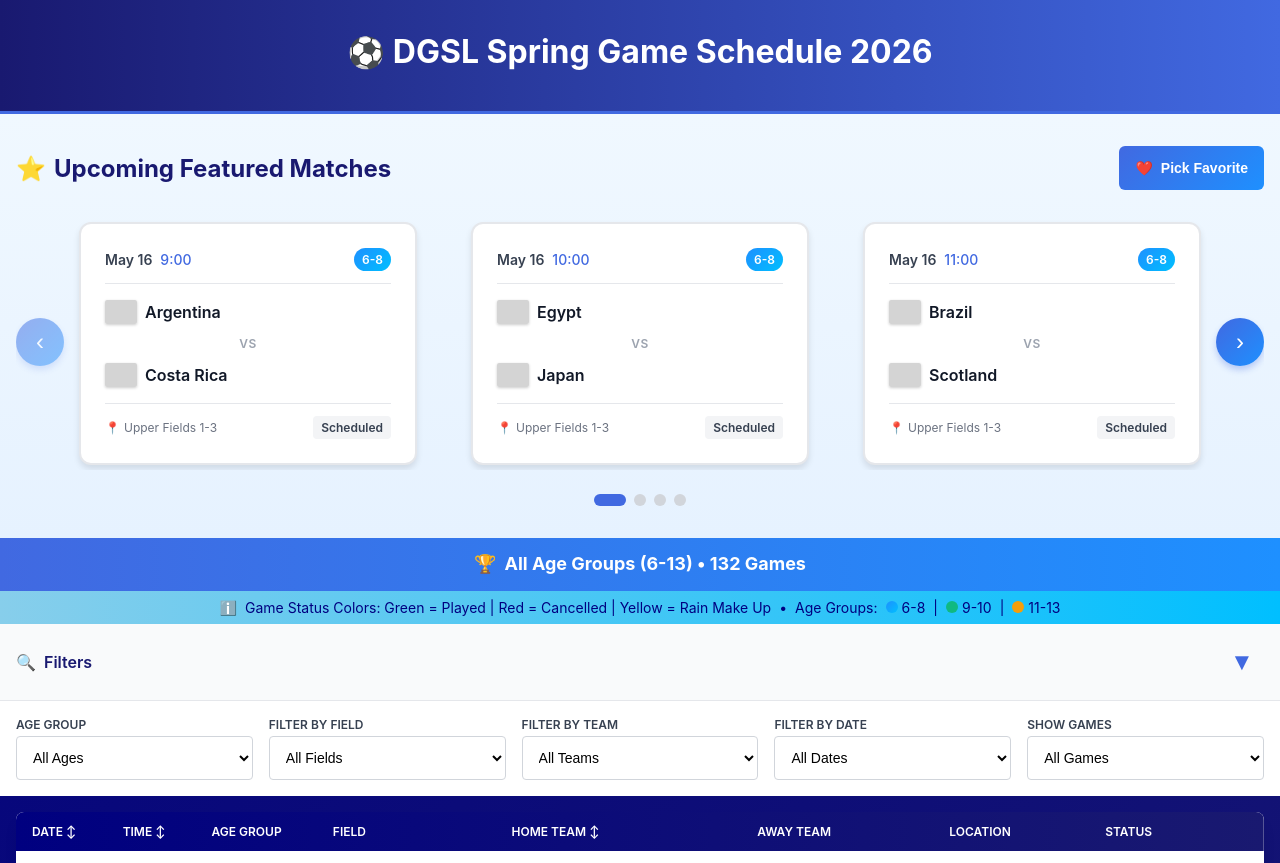
App › should filter matches by age group
Select "Ages 6-8" in the dropdown named "Filter by age group": (134, 758) top-left (16, 736), bottom-right (253, 780)
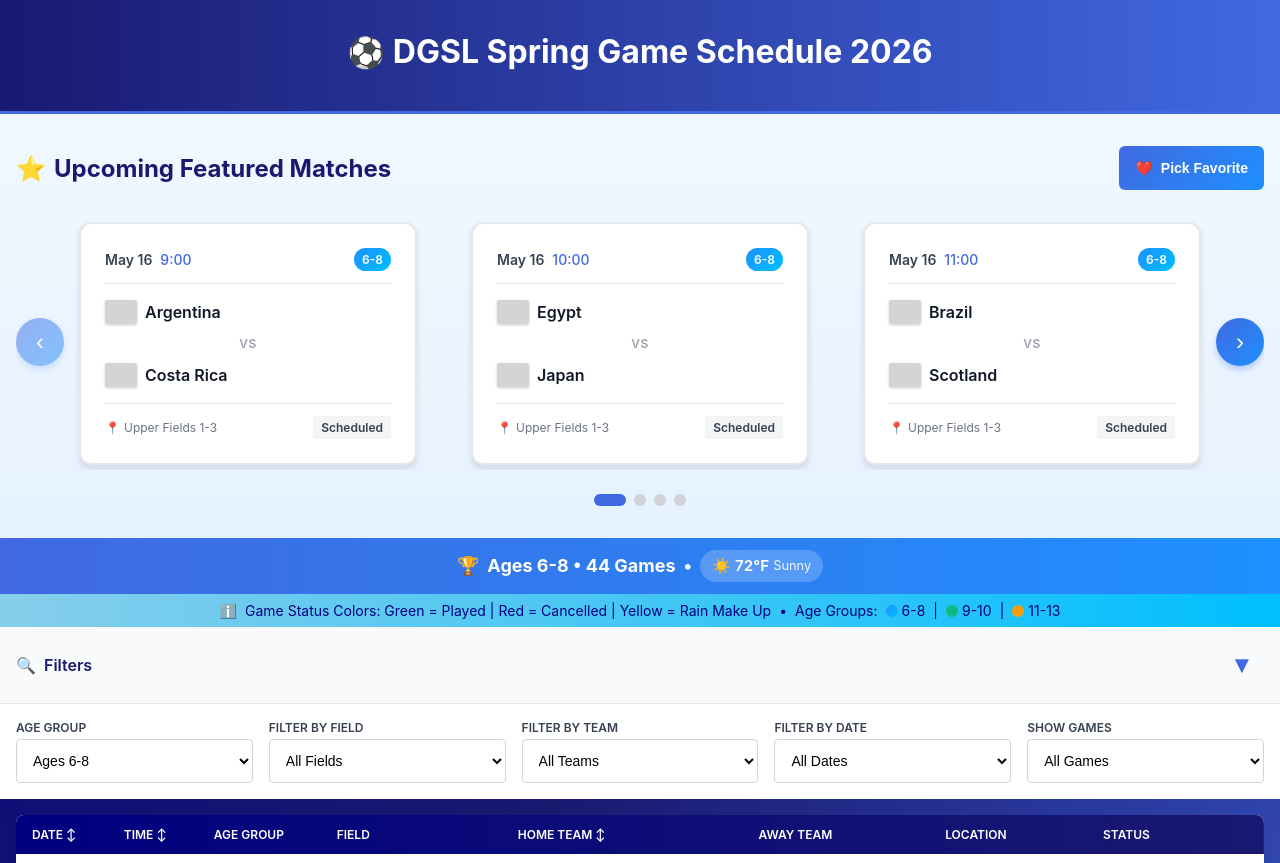
Expected: the element named "Current filter status" shows "Ages 6-8", top-left (487, 555), bottom-right (569, 576)
